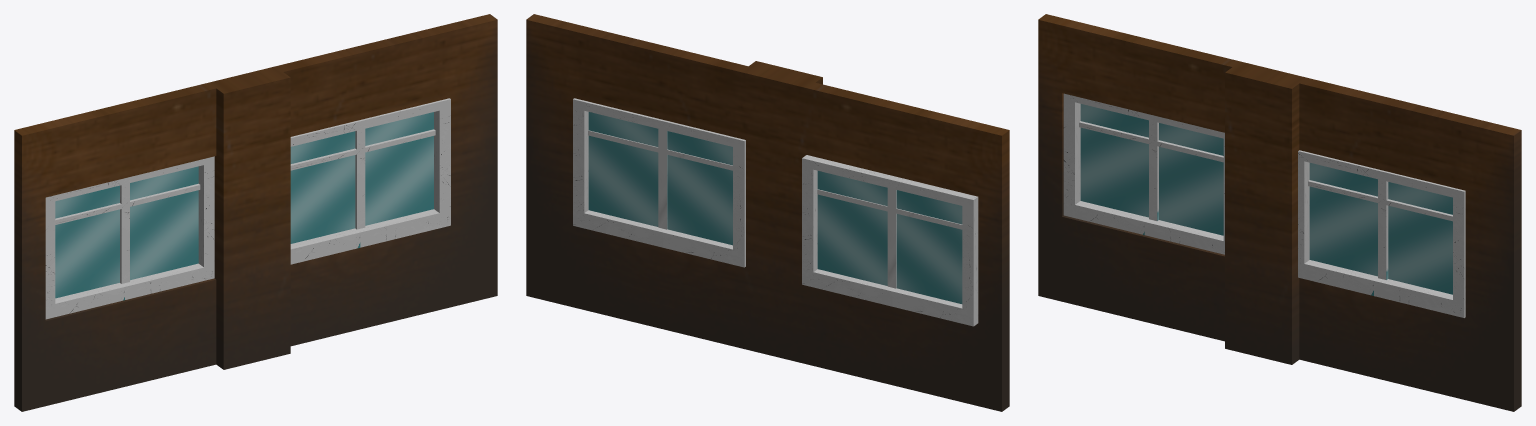
File: ParedBiblioteca_Ventanas.fbx
3 views of the same model, side by side, from view 1: azimuth 30°, elevation 25°; view 2: azimuth 150°, elevation 25°; view 3: azimuth 330°, elevation 25° (orthographic).
Parts seen in each view (by area): view 1: ParedBiblioteca_Ventanas; view 2: ParedBiblioteca_Ventanas; view 3: ParedBiblioteca_Ventanas.
Part boxes in pixels (<box>): ParedBiblioteca_Ventanas: <box>14,14,497,411</box>; ParedBiblioteca_Ventanas: <box>526,14,1009,411</box>; ParedBiblioteca_Ventanas: <box>1038,14,1521,411</box>.
Size of the model in its own units: 1624 by 901 by 117.
